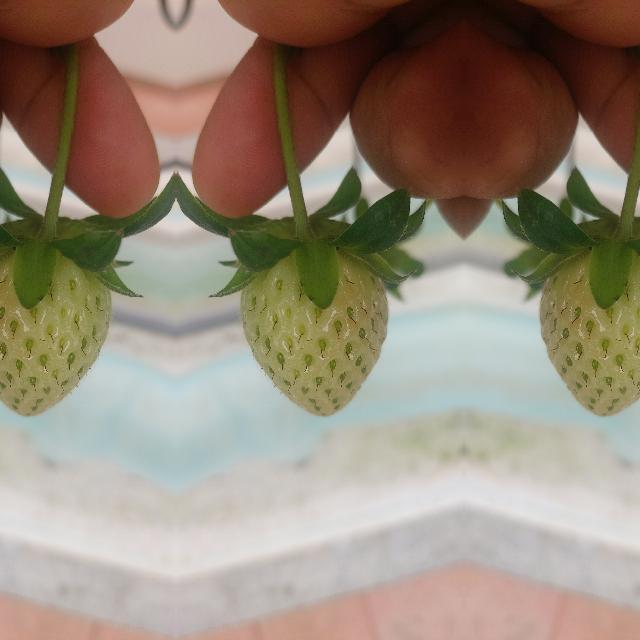Health_25: (239, 250, 387, 416), (0, 250, 111, 416), (539, 250, 640, 416)
